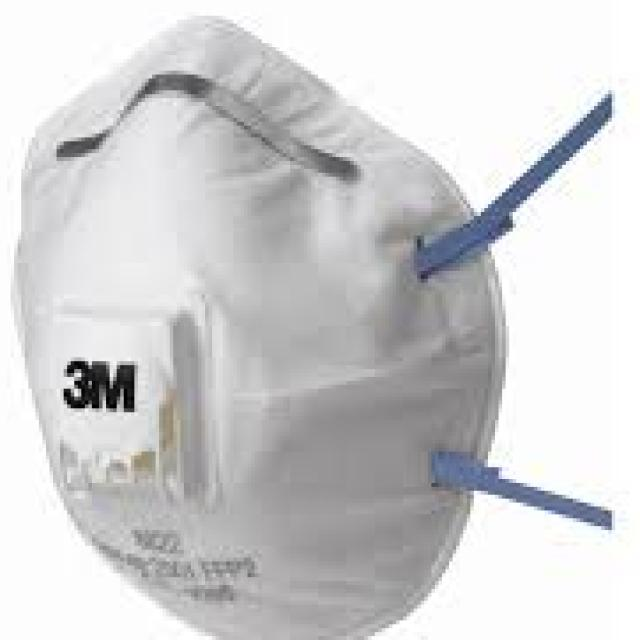organic: (7, 15, 585, 630)
